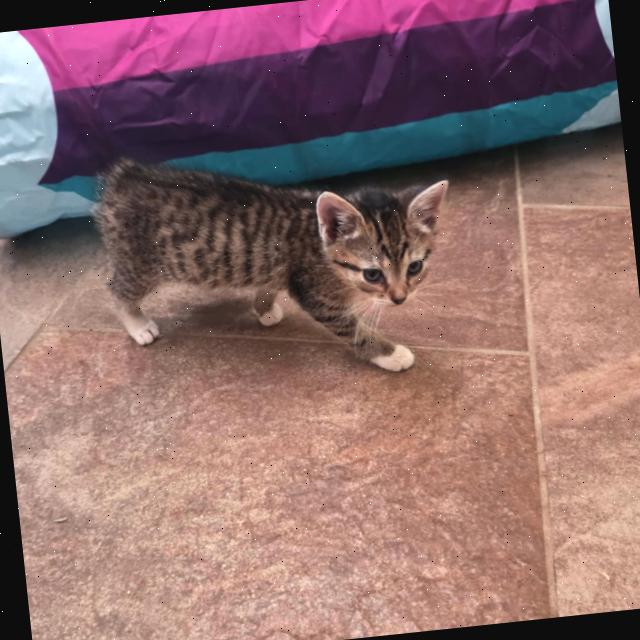manx_cat: (306, 165, 470, 324)
